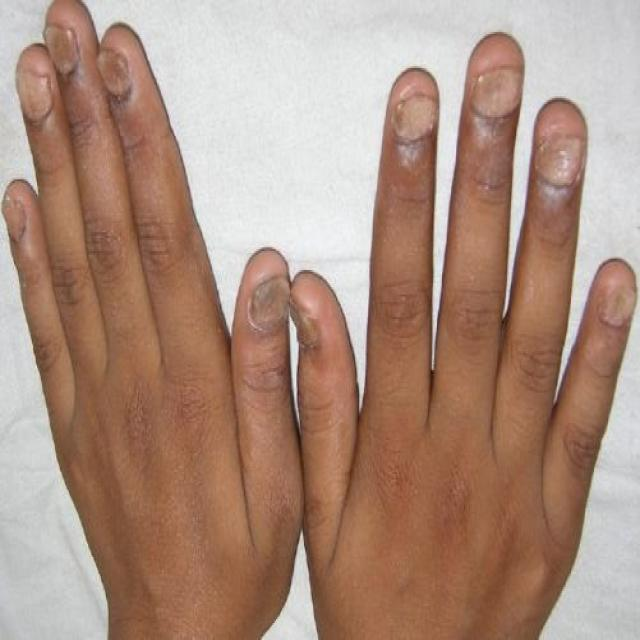Fingernail: (471, 67, 523, 116), (537, 133, 582, 186), (251, 275, 290, 329), (395, 94, 436, 141), (18, 68, 52, 121), (44, 23, 79, 74), (597, 285, 636, 326), (98, 48, 130, 95), (288, 297, 317, 346), (2, 198, 25, 241)
